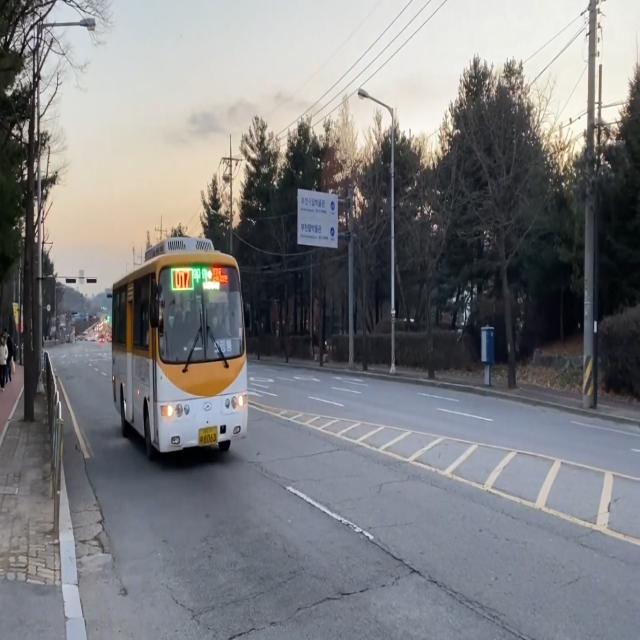bus-number: (174, 269, 190, 289)
